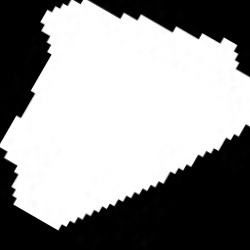spot: (2, 1, 249, 230)
